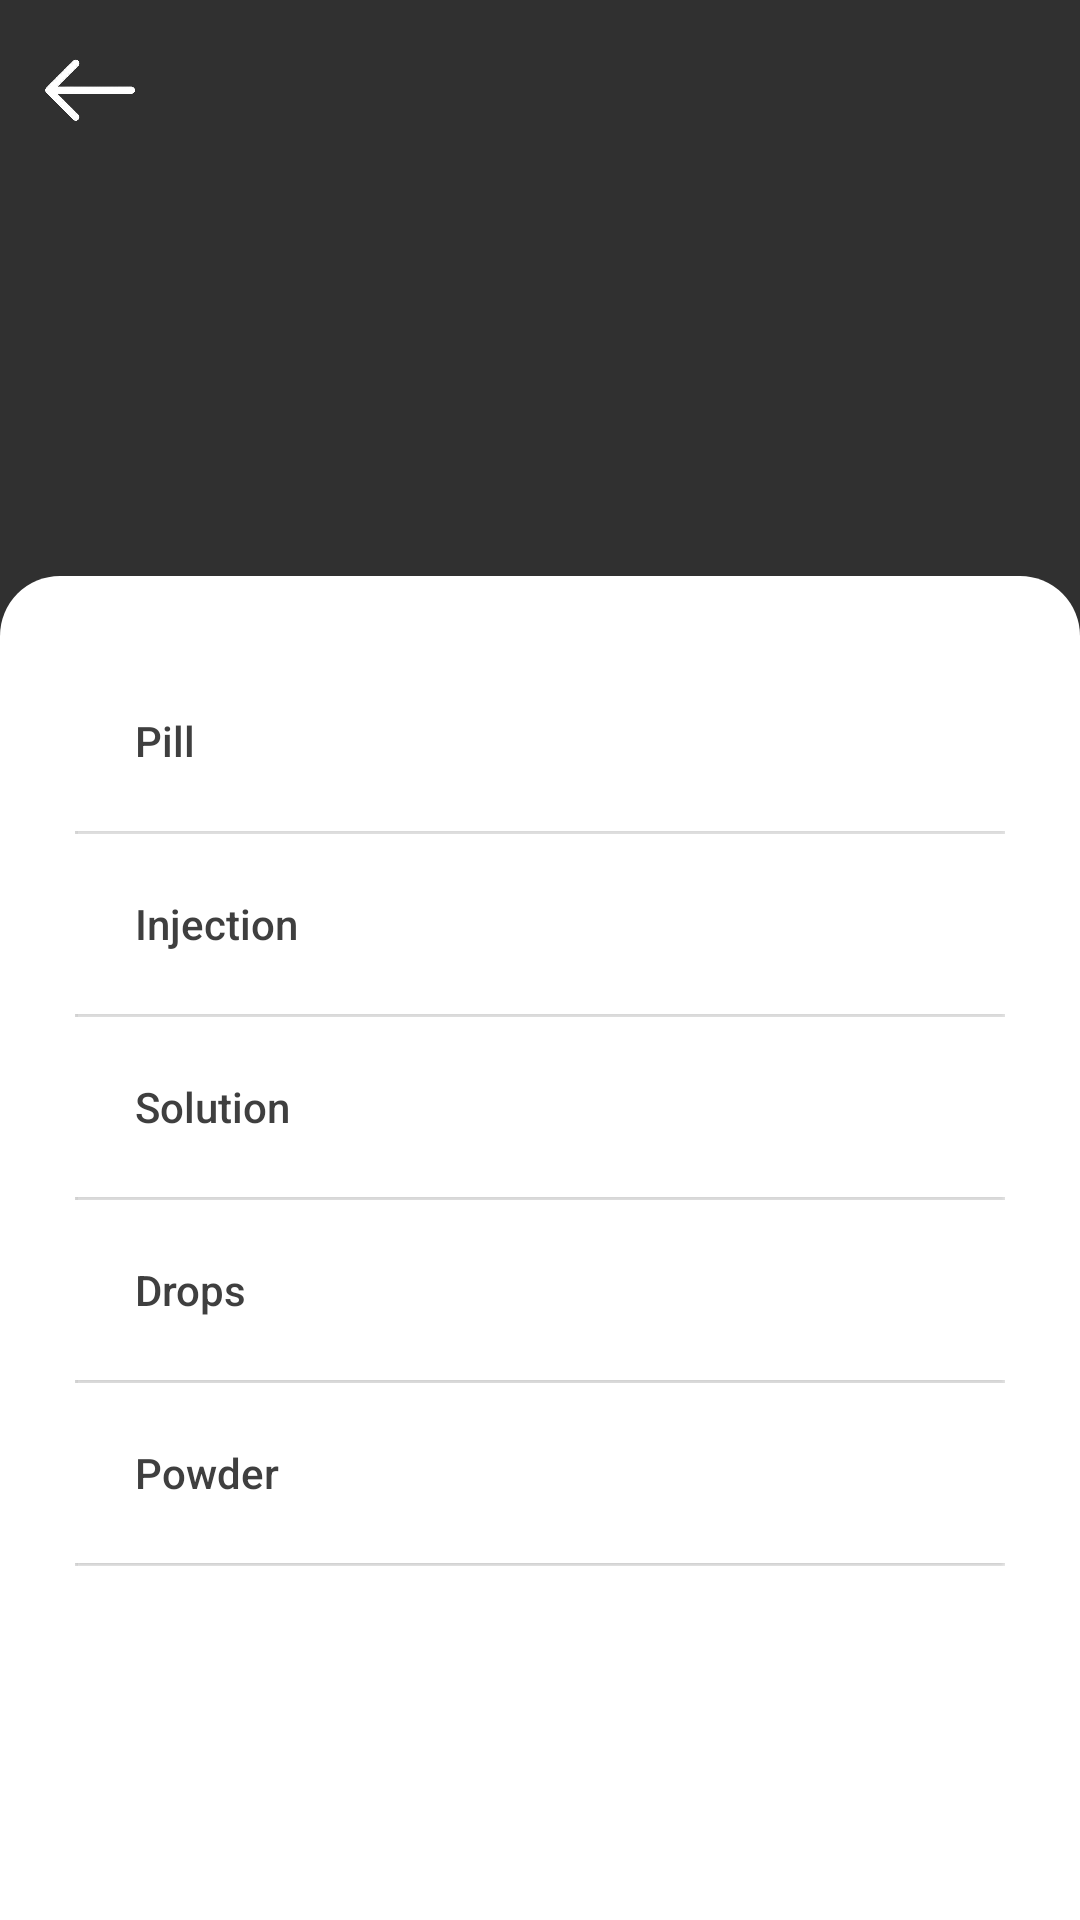

Icon click points for this 1080 × 1920 phone screenshot, format [x,y]:
back: [90,90]
